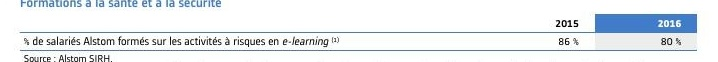table: (0, 0, 718, 62)
